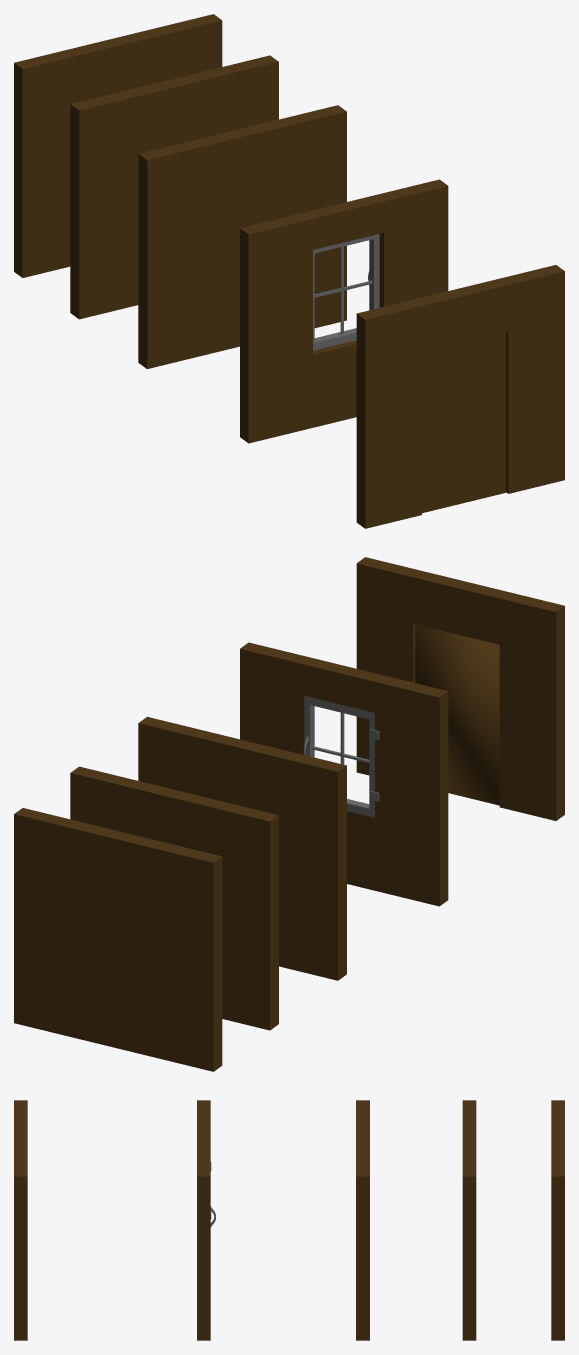
The model's file is WallsForUnity.fbx.
3 views of the same model, one above another, from view 1: azimuth 30°, elevation 25°; view 2: azimuth 150°, elevation 25°; view 3: azimuth 270°, elevation 25° (orthographic). The views are drawn at different scales.
Visible parts, largest first — view 1: SM_WallMiddle, SM_Wall, SM_WallWindow, SM_WallRight, SM_WallLeft, SM_Door.001, SM_Windowframe; view 2: SM_WallLeft, SM_WallWindow, SM_Wall, SM_WallMiddle, SM_WallRight, SM_Door.001, SM_Windowframe; view 3: SM_WallRight, SM_Wall, SM_WallLeft, SM_WallMiddle, SM_WallWindow.
Part boxes in pixels (x1=…): SM_WallMiddle: x1=138, y1=105, x2=346, y2=369; SM_Wall: x1=356, y1=265, x2=564, y2=528; SM_WallWindow: x1=240, y1=179, x2=448, y2=443; SM_WallRight: x1=70, y1=55, x2=278, y2=319; SM_WallLeft: x1=14, y1=14, x2=222, y2=277; SM_Door.001: x1=422, y1=332, x2=505, y2=513; SM_Windowframe: x1=313, y1=234, x2=379, y2=350; SM_WallLeft: x1=14, y1=808, x2=222, y2=1071; SM_WallWindow: x1=240, y1=642, x2=448, y2=906; SM_Wall: x1=356, y1=557, x2=564, y2=820; SM_WallMiddle: x1=138, y1=716, x2=346, y2=980; SM_WallRight: x1=70, y1=766, x2=278, y2=1030; SM_Door.001: x1=415, y1=624, x2=499, y2=805; SM_Windowframe: x1=303, y1=696, x2=374, y2=817; SM_WallRight: x1=462, y1=1100, x2=476, y2=1340; SM_Wall: x1=14, y1=1100, x2=27, y2=1340; SM_WallLeft: x1=551, y1=1100, x2=564, y2=1340; SM_WallMiddle: x1=356, y1=1100, x2=369, y2=1340; SM_WallWindow: x1=197, y1=1100, x2=210, y2=1340.
Bounding box in the file's own units: 3.24 × 9.88 × 3.24.
